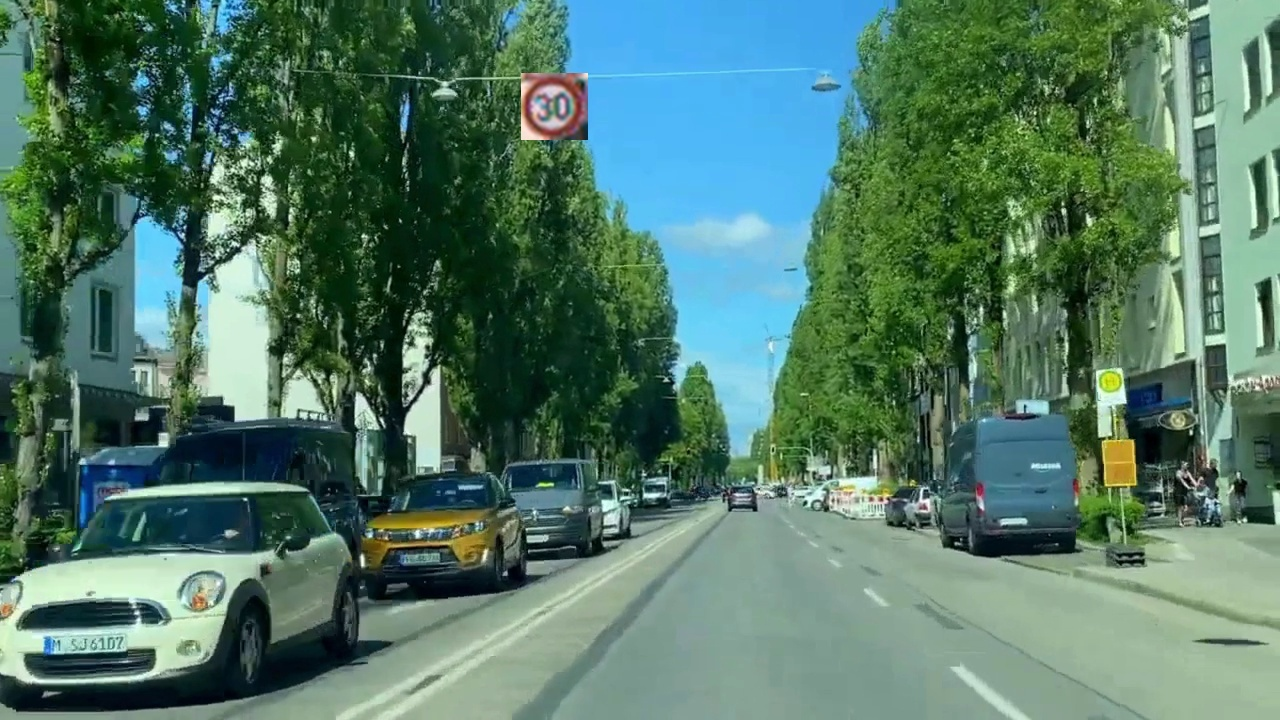Speed 30: (521, 73, 588, 140)
